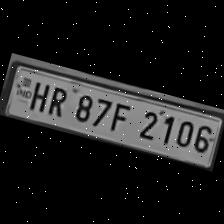0: (172, 114, 198, 149)
1: (156, 110, 178, 144)
2: (131, 104, 164, 142)
6: (189, 119, 216, 156)
7: (88, 92, 114, 130)
8: (68, 88, 98, 124)
F: (104, 97, 136, 136)
H: (25, 76, 52, 113)
R: (42, 80, 73, 118)
